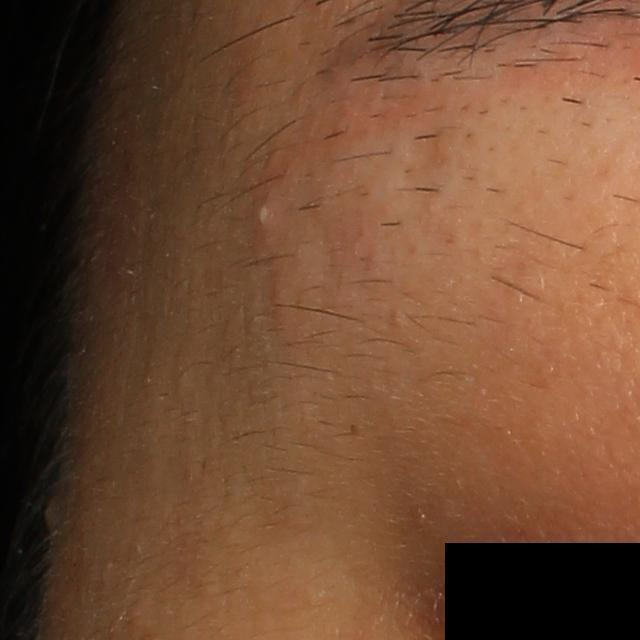pustule: (252, 197, 275, 234)
